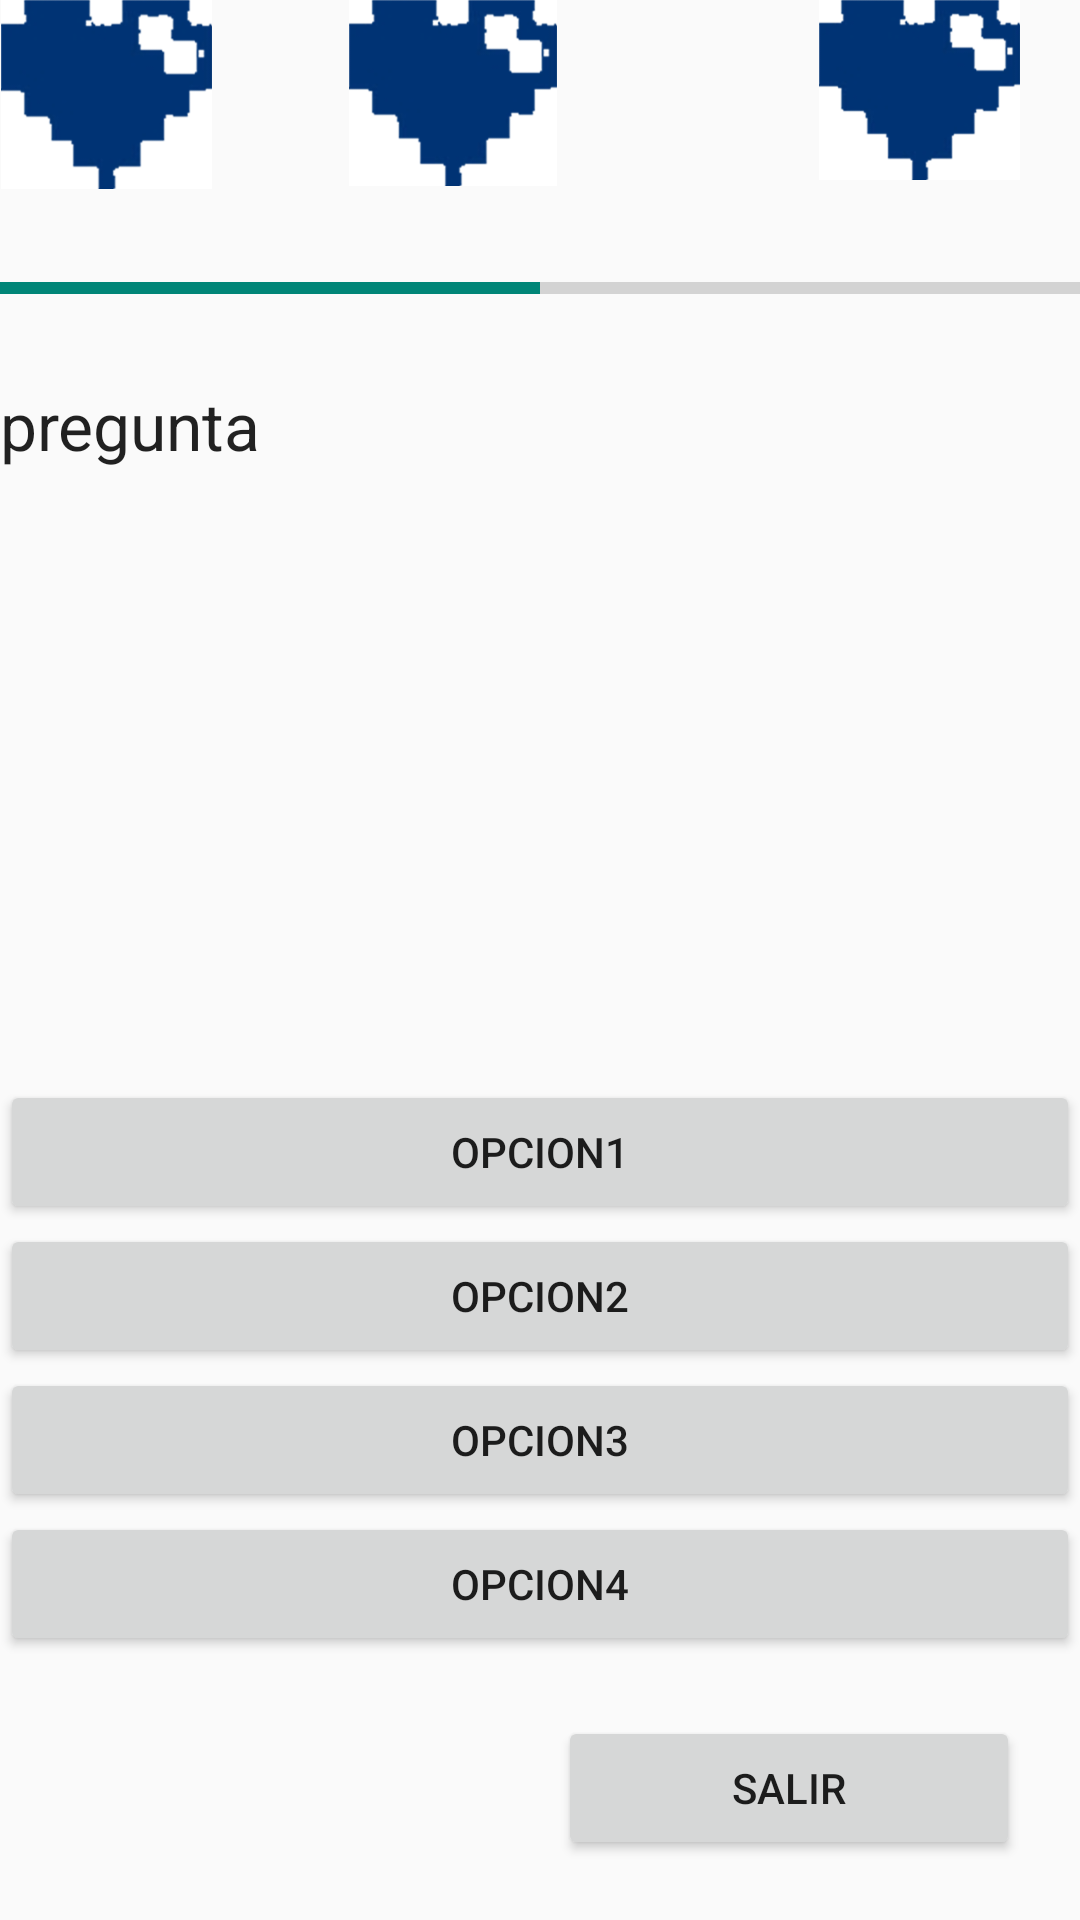

Where icons sit on this 1080px×1920px app screen, as bbox=[x1, y1, x2, y2]:
vidaok: bbox=[1, 0, 212, 189], bbox=[349, 0, 557, 186], bbox=[819, 0, 1020, 180]
